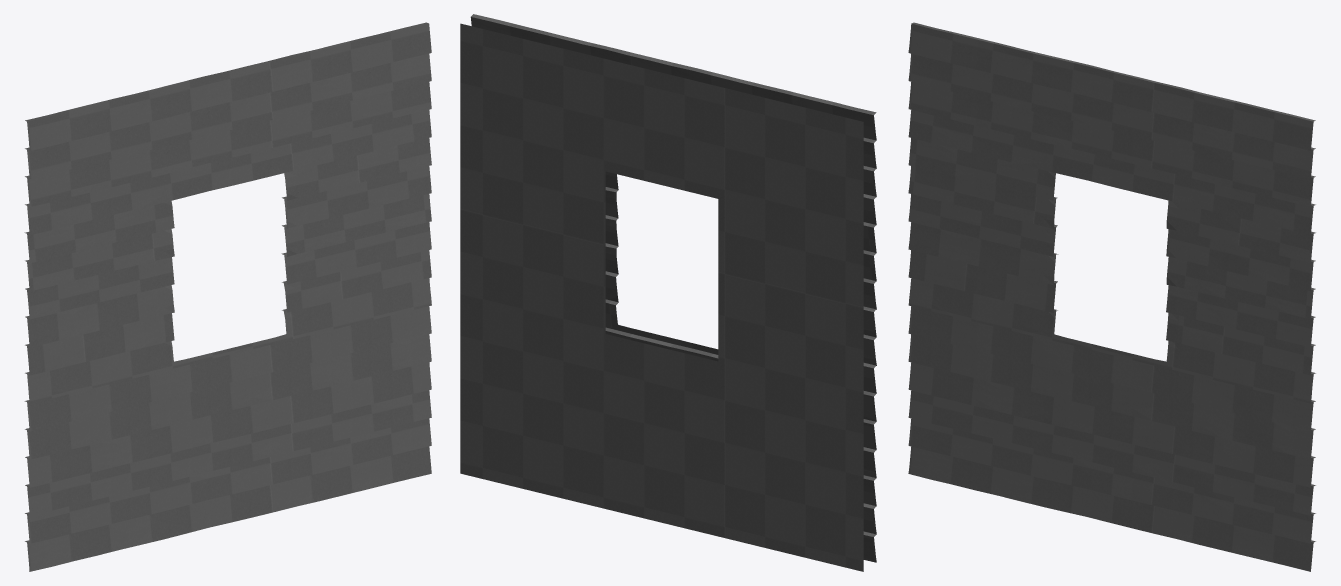
Rendered from SM_House_ExtWall_Window_C3.glb.
The picture shows the model from 3 angles, left to right: view 1: azimuth 30°, elevation 25°; view 2: azimuth 150°, elevation 25°; view 3: azimuth 330°, elevation 25°; orthographic projection.
Parts seen in each view (by area): view 1: SM_House_ExtWall_Window_C3; view 2: SM_House_ExtWall_Window_C3; view 3: SM_House_ExtWall_Window_C3.
Part boxes in pixels (<box>): SM_House_ExtWall_Window_C3: <box>24,22,431,571</box>; SM_House_ExtWall_Window_C3: <box>460,14,876,571</box>; SM_House_ExtWall_Window_C3: <box>908,22,1315,571</box>.
Size of the model in its own units: 300 by 321 by 20.38.
1 material, 1 textured.
